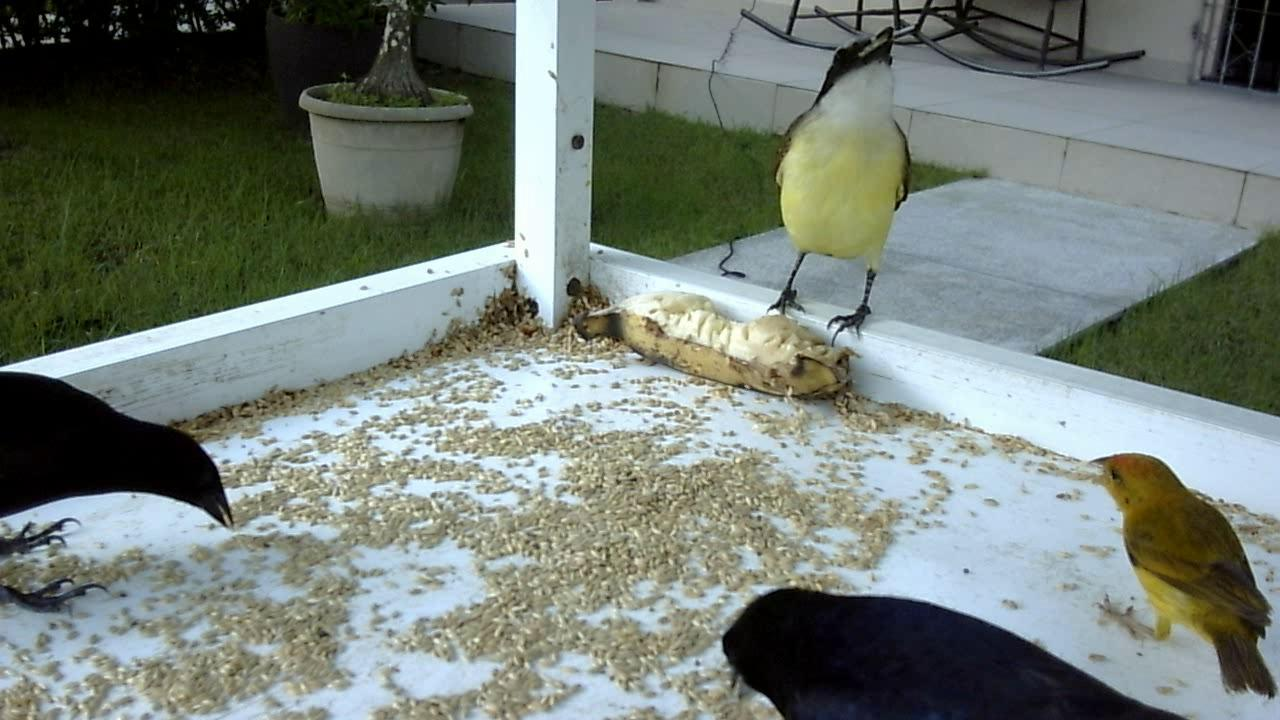bem_te_vi: (709, 29, 978, 356)
canario_do_amazonas: (1070, 442, 1278, 702)
chupim: (712, 573, 1202, 720), (1, 352, 241, 630)
